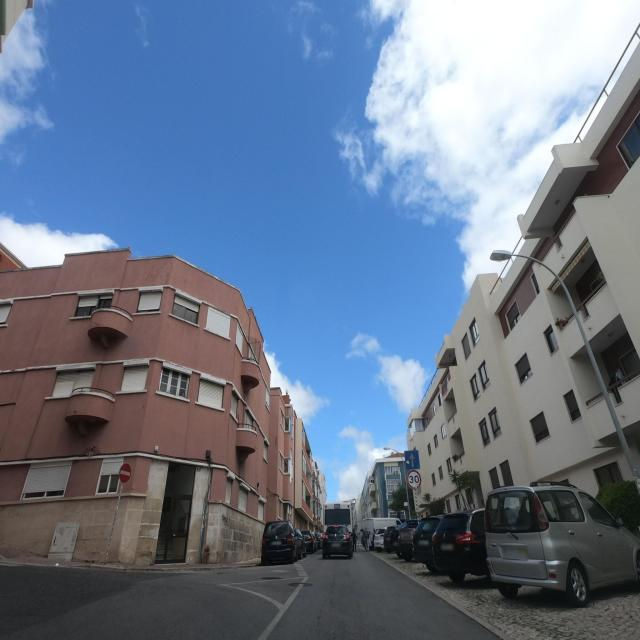car: (484, 480, 640, 606), (432, 508, 486, 584), (412, 515, 448, 565), (260, 520, 300, 565), (382, 518, 421, 553), (322, 524, 353, 559), (294, 528, 308, 558), (302, 529, 316, 553), (313, 531, 321, 548)
